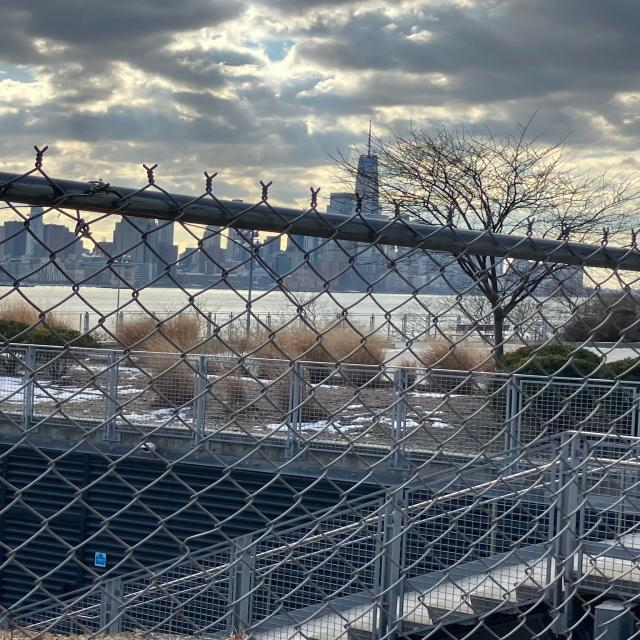WTC: (352, 120, 386, 215)
